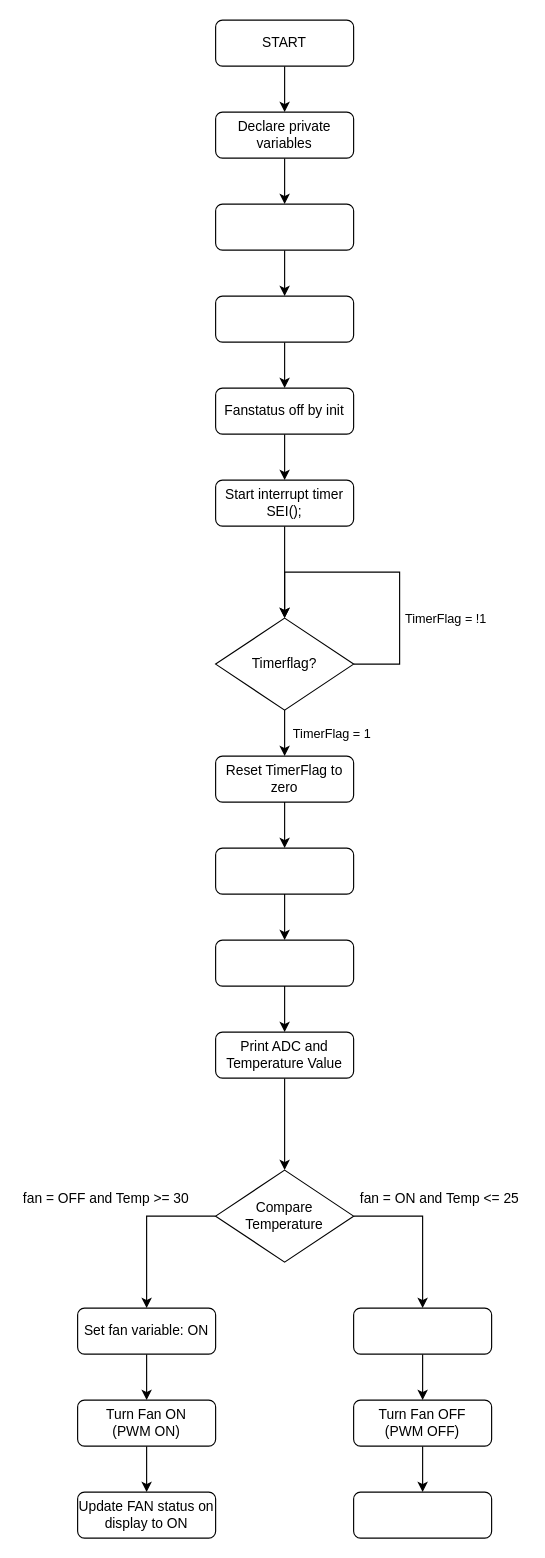
This 545x1558 diagram has some shape labels left out. The centre of each missing label's shape, as x and y in pixels:
"Calculate Temperature" goes at (x=284, y=962).
"Graphical headers setup" goes at (x=284, y=318).
"Init functions (ADC, Timer, PWM, Display)" goes at (x=284, y=226).
"Set fan variable: OFF" goes at (x=422, y=1330).
"Take ADC Measurement" goes at (x=284, y=870).
"Update Fan status on display to OFF" goes at (x=422, y=1514).
